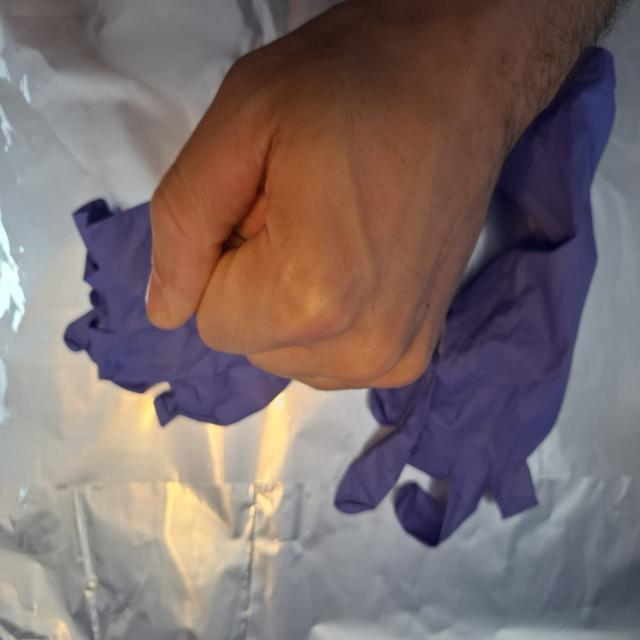glove_off: (142, 3, 550, 400)
